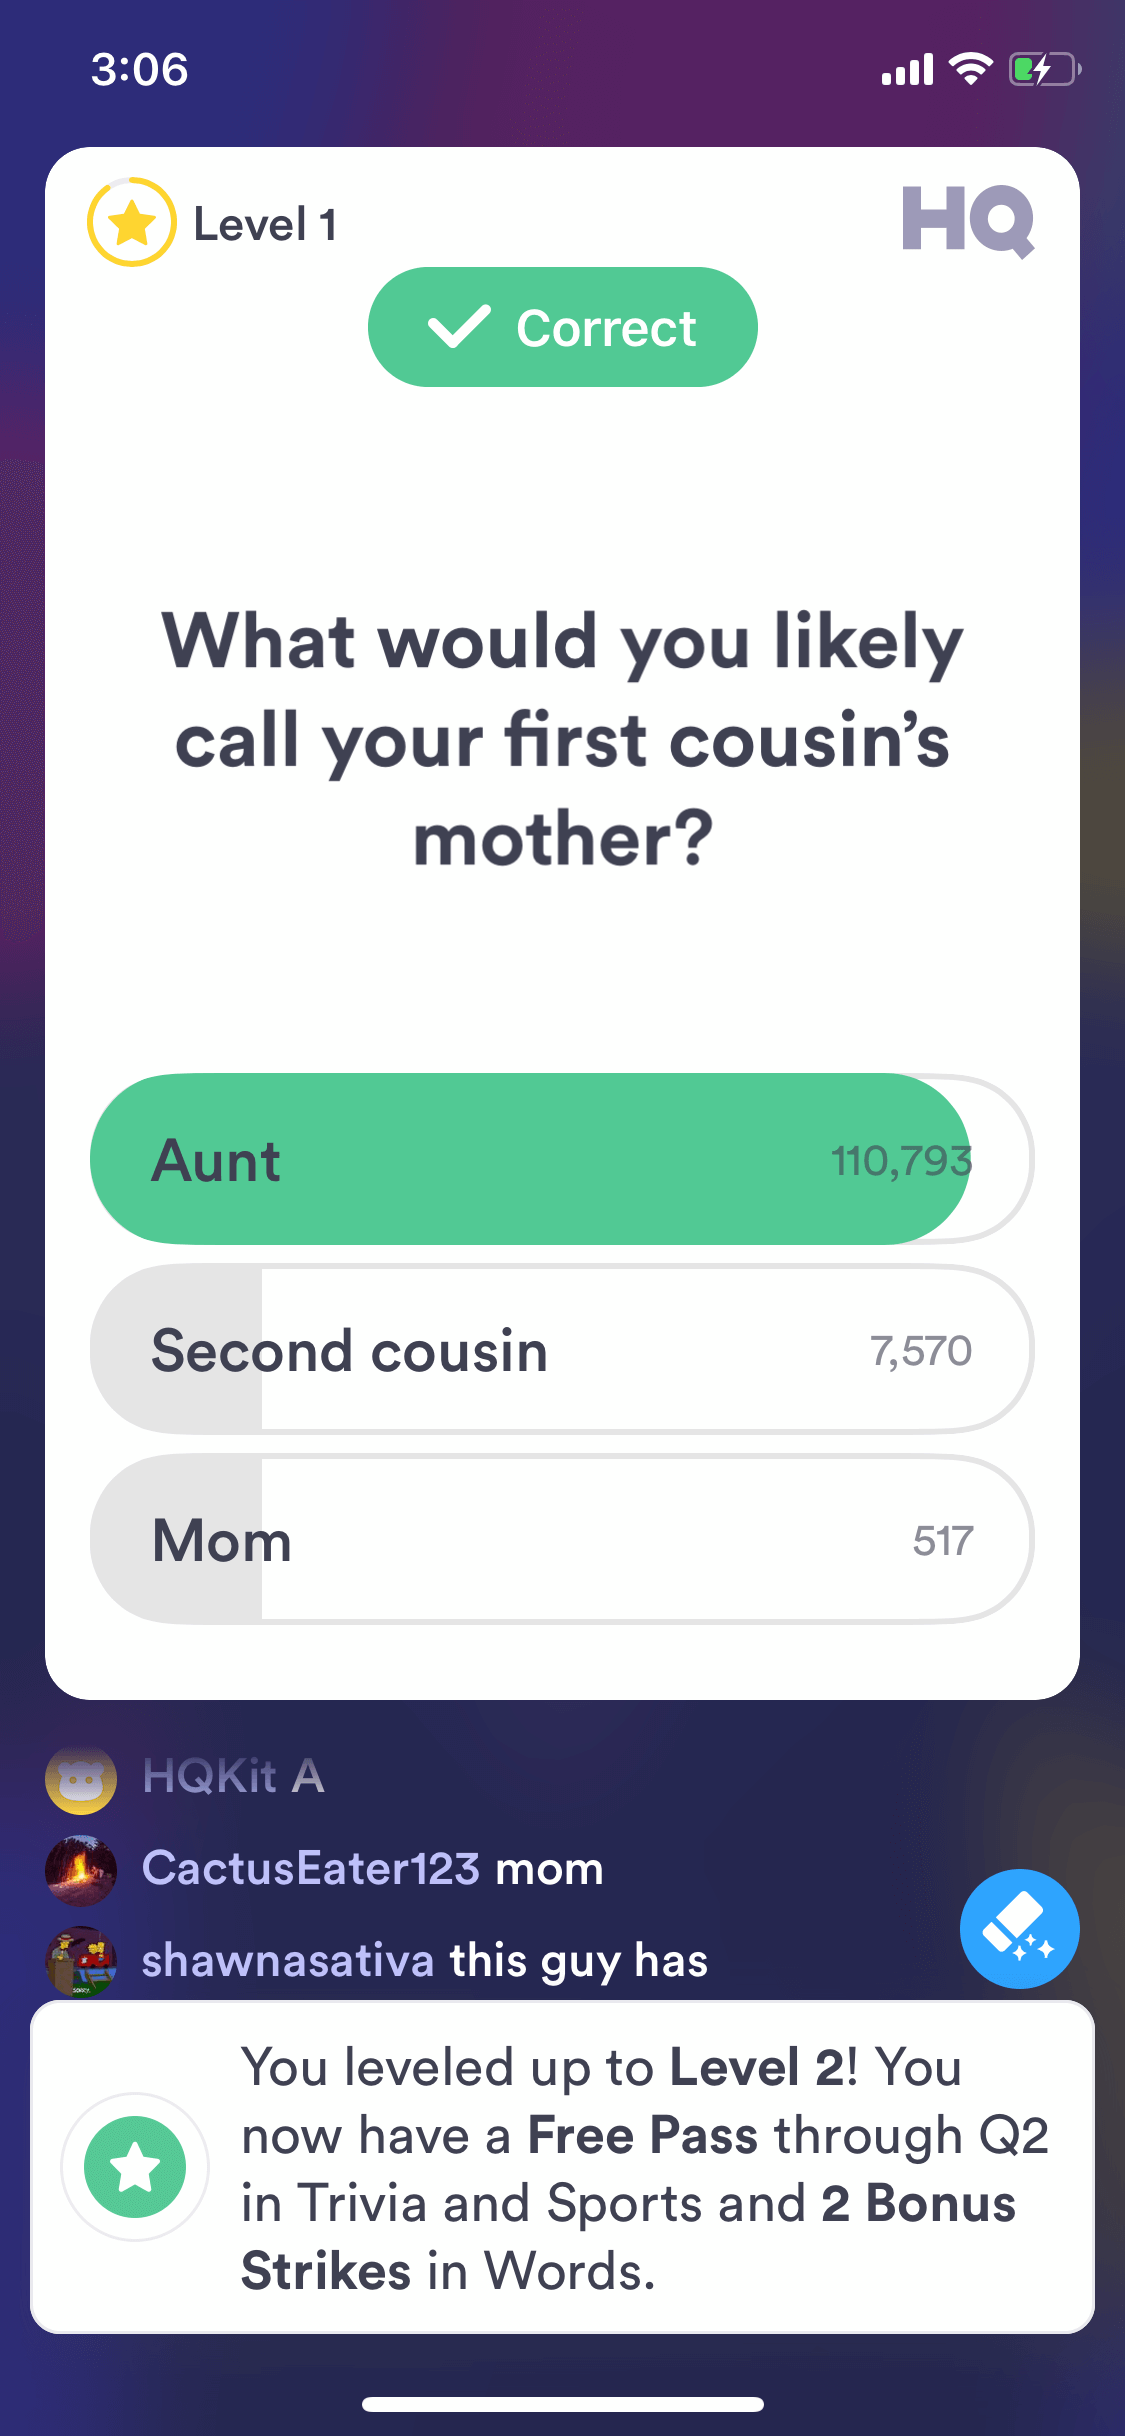Buttons: (360, 253, 766, 390)
FAB (Floating Action Button): (949, 1849, 1092, 1996)
